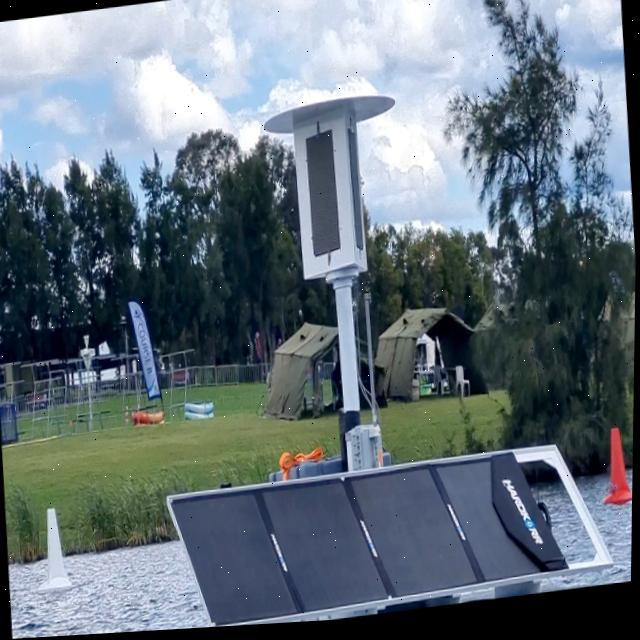led: (297, 124, 350, 270)
